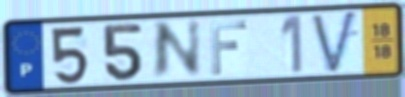1: (276, 13, 304, 78)
5: (100, 22, 145, 84), (48, 23, 92, 85)
F: (208, 18, 250, 77)
N: (150, 17, 204, 84)
V: (308, 8, 361, 77)
